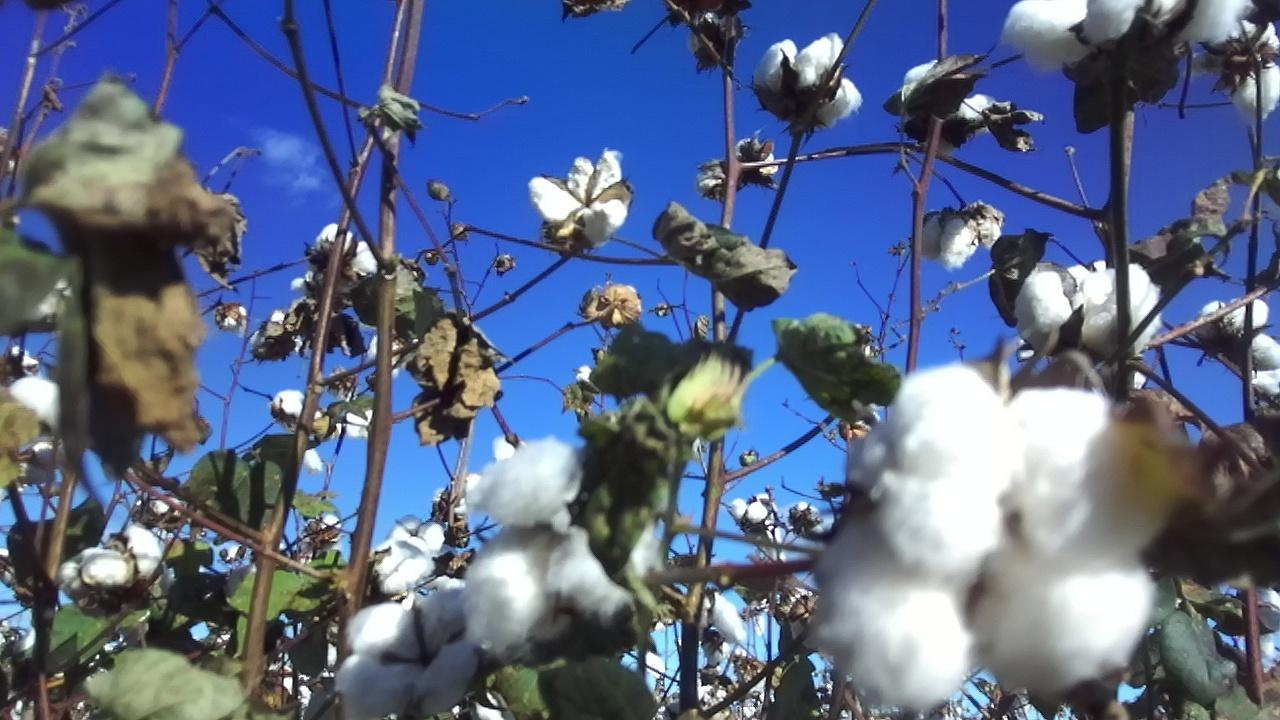cotton_ready: (459, 437, 660, 654), (330, 585, 491, 720), (999, 0, 1248, 77), (1012, 257, 1167, 359), (757, 30, 869, 135), (528, 149, 632, 252), (901, 57, 1004, 150), (59, 522, 163, 597), (1209, 16, 1280, 124), (1199, 297, 1280, 371), (376, 515, 452, 591), (917, 207, 1002, 274), (305, 220, 375, 301)
